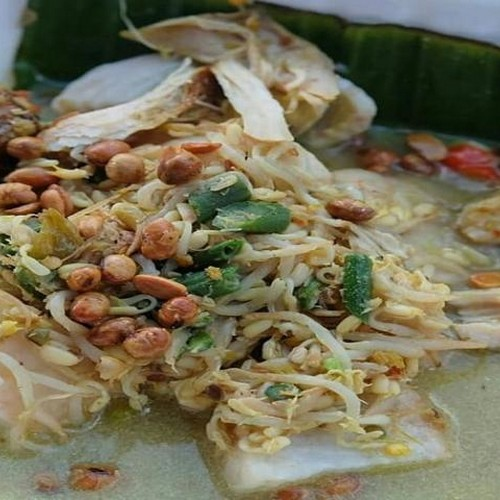tipat blayag: (14, 16, 465, 488)
